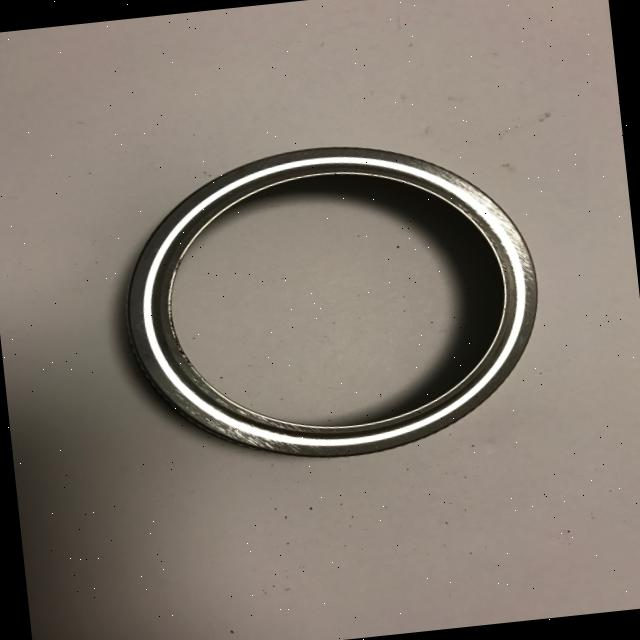metal: (109, 124, 553, 477)
